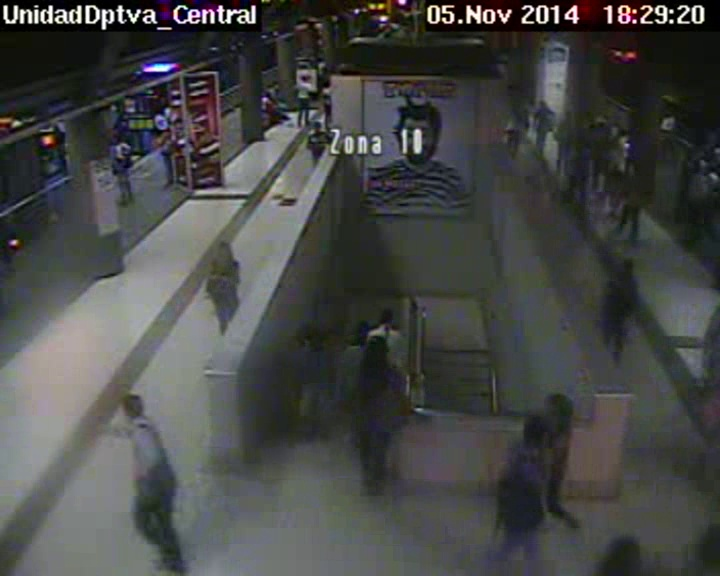person: (541, 393, 571, 425), (364, 335, 389, 364), (518, 417, 541, 446), (118, 394, 143, 418), (212, 240, 234, 262), (303, 330, 322, 349), (616, 257, 634, 277), (377, 309, 396, 326), (618, 128, 632, 144), (627, 157, 641, 171), (312, 121, 324, 134), (593, 114, 605, 127), (576, 136, 588, 148), (115, 133, 126, 145), (561, 112, 571, 125), (537, 100, 549, 110), (510, 102, 520, 113), (162, 123, 173, 132), (299, 75, 308, 83), (266, 86, 274, 94), (323, 81, 331, 89), (272, 81, 279, 89), (264, 92, 270, 99)
